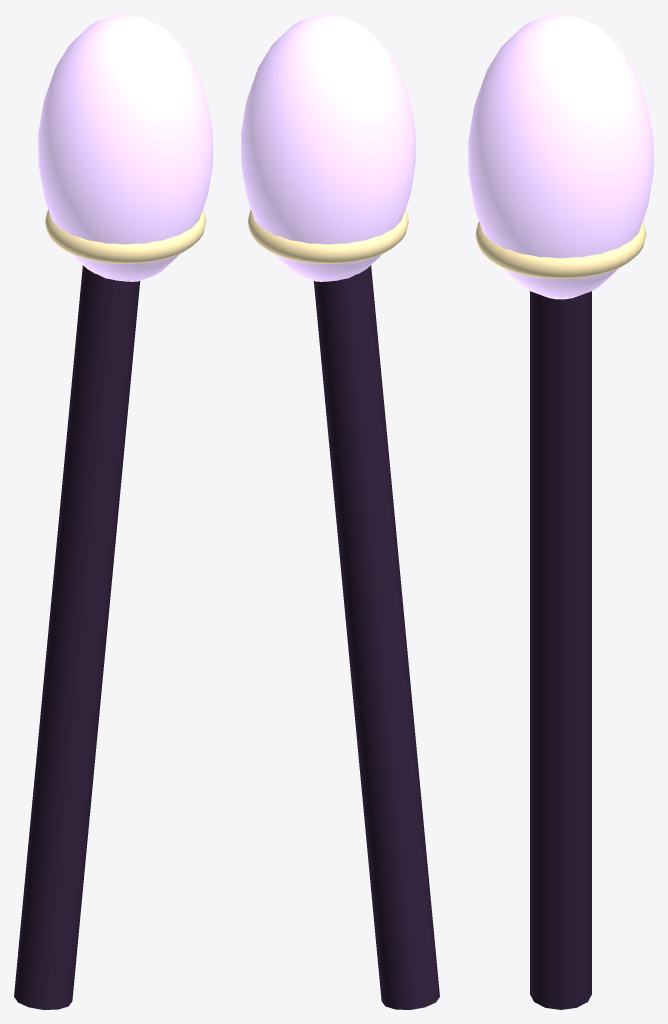
The model's file is wand.glb.
3 views of the same model, side by side, from view 1: azimuth 30°, elevation 25°; view 2: azimuth 150°, elevation 25°; view 3: azimuth 270°, elevation 25° (orthographic). The views are drawn at different scales.
Parts seen in each view (by area): view 1: LacquerShaft, Crystal, CrystalSetting; view 2: LacquerShaft, Crystal, CrystalSetting; view 3: LacquerShaft, Crystal, CrystalSetting.
Boxes of the visible parts, x1,y1,x2,y2 form: LacquerShaft: (14, 265, 140, 1009); Crystal: (38, 14, 212, 281); CrystalSetting: (45, 209, 206, 263); LacquerShaft: (313, 265, 439, 1009); Crystal: (241, 14, 415, 281); CrystalSetting: (247, 209, 408, 263); LacquerShaft: (530, 291, 591, 1009); Crystal: (468, 14, 653, 299); CrystalSetting: (475, 221, 646, 279).
Size of the model in its own units: 0.0289 by 0.1449 by 0.0238.
